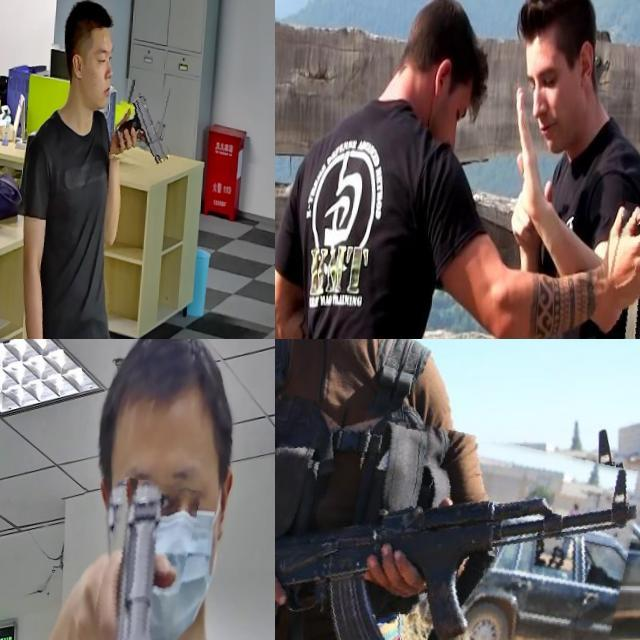-: (596, 197, 640, 339)
gun-knife-thesis - v11 Yolov5 augmented: (275, 389, 640, 640), (76, 475, 191, 640), (114, 78, 180, 166)
